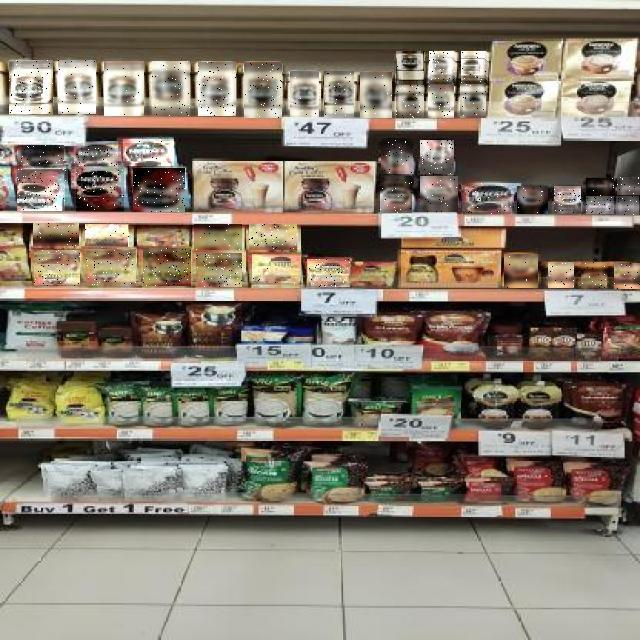Coffee: (9, 60, 53, 115), (133, 168, 185, 212), (104, 61, 144, 116), (244, 62, 282, 118), (76, 168, 124, 212), (18, 169, 68, 211), (152, 61, 190, 116), (58, 61, 96, 115), (198, 62, 236, 116), (143, 249, 191, 287), (86, 250, 136, 286), (34, 251, 80, 287), (252, 254, 300, 288), (196, 253, 242, 287), (360, 73, 392, 119), (466, 183, 512, 214), (324, 72, 354, 118), (123, 139, 174, 166), (420, 176, 458, 212), (290, 71, 319, 117), (195, 224, 243, 250), (249, 225, 297, 251), (307, 259, 350, 287), (380, 176, 412, 213), (504, 254, 538, 288), (420, 140, 454, 174), (381, 138, 413, 174), (33, 224, 79, 248), (86, 224, 132, 247), (396, 85, 424, 118), (396, 52, 424, 84), (460, 84, 486, 118), (74, 146, 118, 166), (18, 145, 64, 164), (517, 186, 548, 214), (428, 85, 454, 118), (430, 52, 456, 84), (462, 52, 488, 84), (554, 186, 581, 214), (548, 263, 574, 289), (581, 263, 607, 289), (614, 263, 640, 289), (586, 178, 614, 196), (586, 197, 614, 215), (616, 196, 639, 215), (617, 177, 640, 195)
